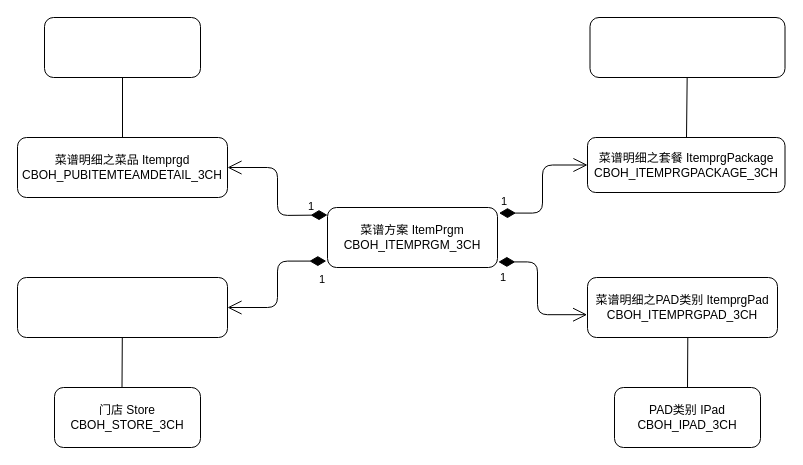
Some shapes in this 803 by 465 pixel diagram are drawn without their labels. Here are the shapes that lost their labels. From the top down, the centre of each, then its label:
At point (122, 47): "菜品 Pubitem CBOH_PUBITEM_3CH".
At point (687, 47): "套餐 PubPack CBOH_PUBPACK_3CH".
At point (122, 307): "菜谱明细之适用门店 ItemprgFirm CBOH_ITEMPRGFIRM_3CH".
